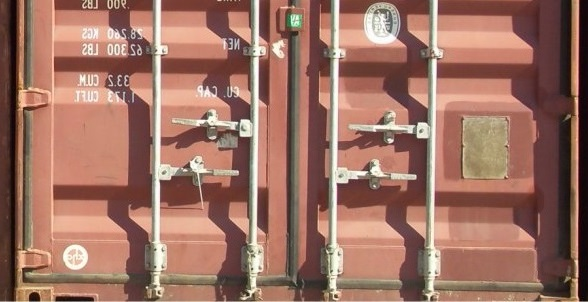container_door: (10, 3, 582, 298)
